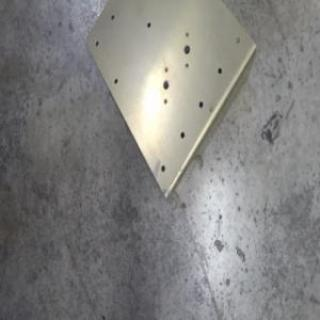MetalSheettrack_idkeyframe: (82, 0, 255, 204)
